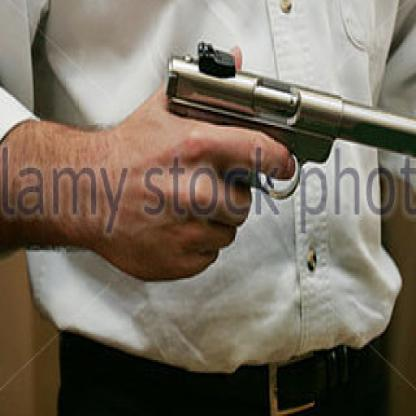gun: (157, 30, 415, 216)
